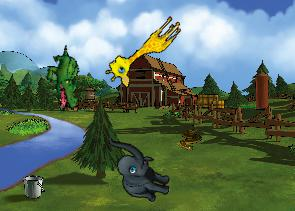crocodile: (36, 44, 93, 113)
elephant: (98, 136, 177, 204)
giraffe: (101, 6, 185, 92)
